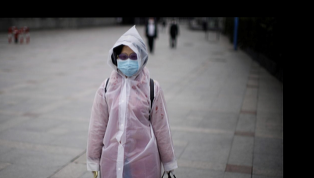with_mask: (114, 49, 139, 78)
